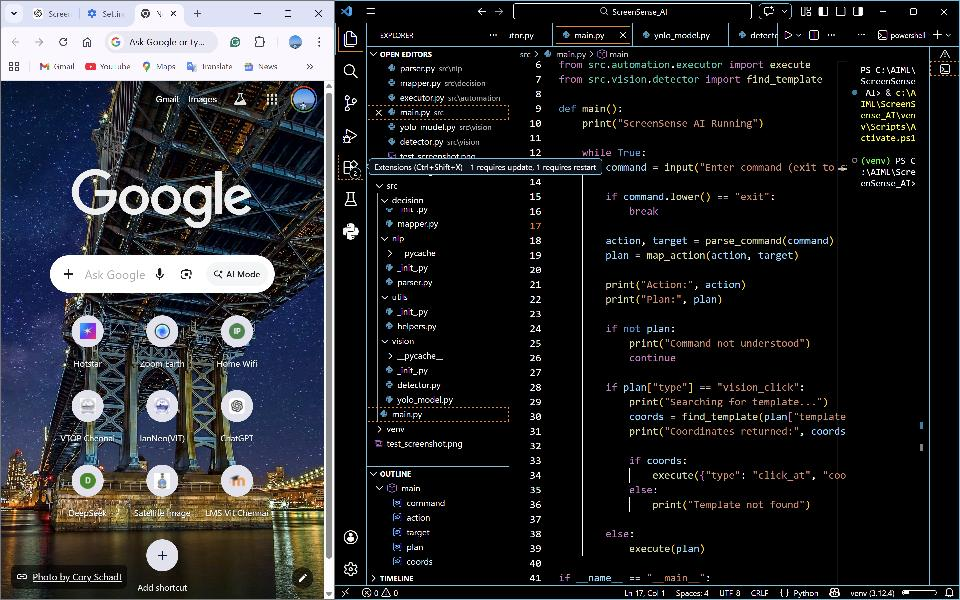close_button: (308, 3, 331, 24), (934, 2, 953, 20)
maximize_button: (277, 3, 300, 25), (904, 2, 925, 22)
minimize_button: (246, 3, 267, 25), (873, 1, 892, 21)
